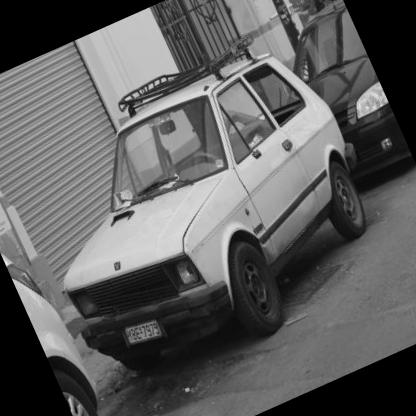car: (1, 17, 412, 406)
